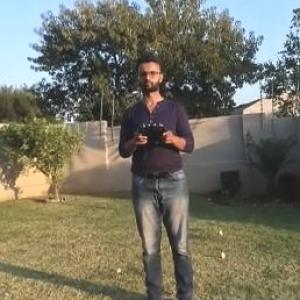follow: (107, 48, 198, 299)
